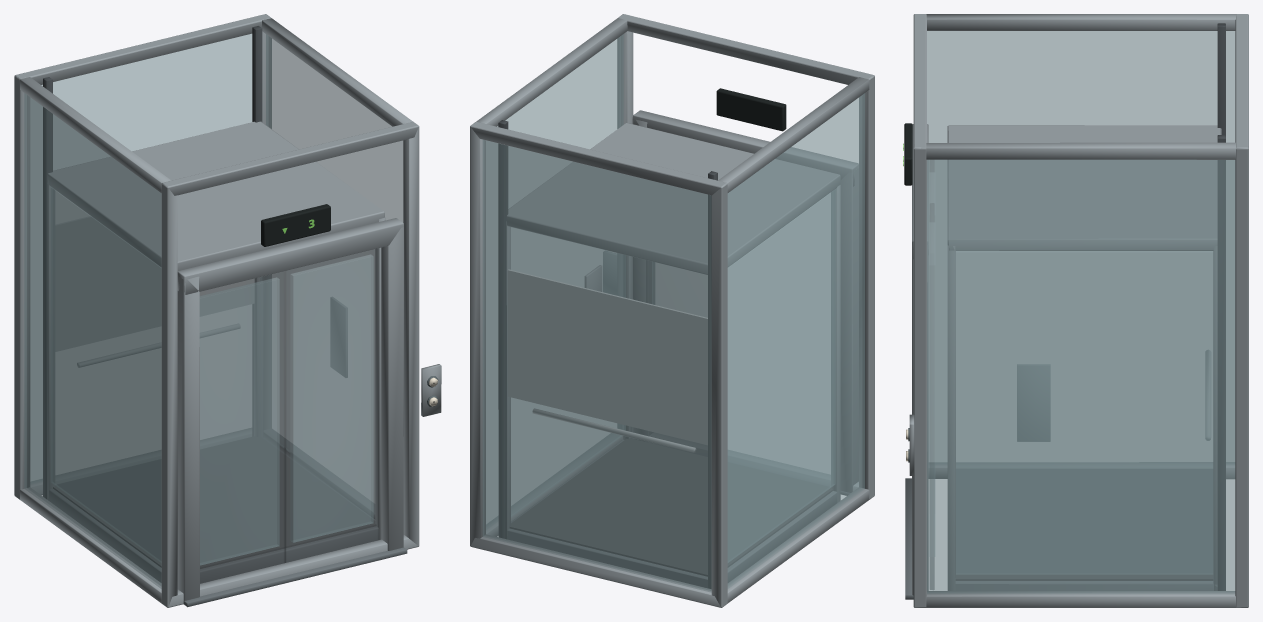
Rendered from thang_may.glb.
The picture shows the model from 3 angles, left to right: view 1: azimuth 30°, elevation 25°; view 2: azimuth 150°, elevation 25°; view 3: azimuth 270°, elevation 25°; orthographic projection. The views are drawn at different scales.
Parts seen in each view (by area): view 1: w_kinh_long, w_cabin, w_canh_cua, w_khung_long, w_kinh_cabin, w_khung_cua, w_ray, w_den_tang, w_bang_goi; view 2: w_kinh_long, w_cabin, w_khung_long, w_kinh_cabin, w_khung_cua, w_ray, w_canh_cua, w_den_tang, w_bang_goi; view 3: w_kinh_long, w_kinh_cabin, w_cabin, w_khung_long, w_ray, w_khung_cua, w_canh_cua, w_den_tang.
Part boxes in pixels (x1,y1,x2,y2): w_kinh_long: (24,34,403,588); w_cabin: (47,121,385,583); w_canh_cua: (199,248,379,583); w_khung_long: (14,14,419,607); w_kinh_cabin: (51,187,374,562); w_khung_cua: (177,218,407,607); w_ray: (43,26,262,498); w_den_tang: (261,204,330,246); w_bang_goi: (421,364,441,416); w_kinh_long: (482,34,864,592); w_cabin: (507,123,840,587); w_khung_long: (470,14,874,607); w_kinh_cabin: (511,190,835,562); w_khung_cua: (632,110,858,495); w_ray: (498,120,717,588); w_canh_cua: (646,260,707,456); w_den_tang: (716,88,786,131); w_bang_goi: (603,251,616,294); w_kinh_long: (927,31,1235,593); w_kinh_cabin: (956,251,1212,574); w_cabin: (947,125,1221,590); w_khung_long: (913,14,1248,607); w_ray: (1217,23,1225,590); w_khung_cua: (905,124,928,599); w_canh_cua: (929,160,934,589); w_den_tang: (903,123,912,185).
Size of the model in its own units: 2.03 by 3 by 2.04.
